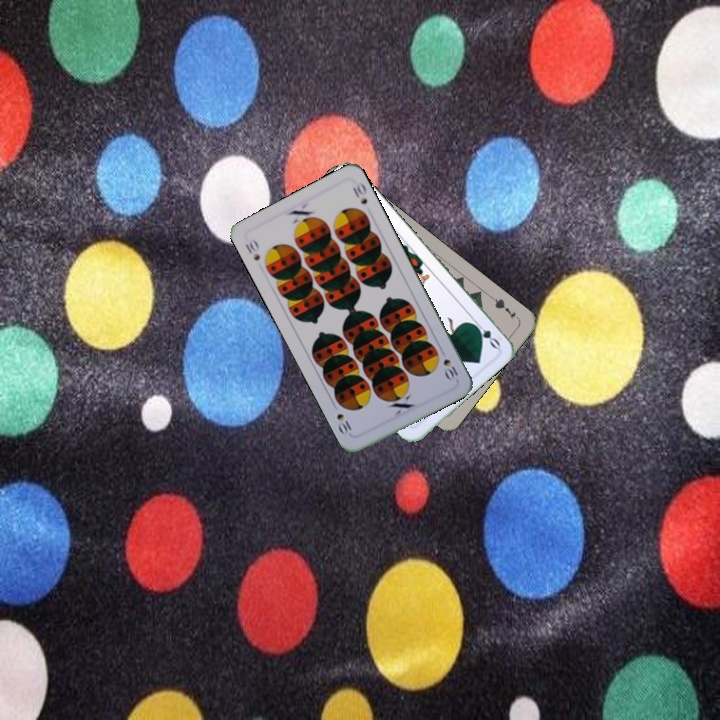G7: (487, 293, 522, 322)
GO: (468, 316, 503, 351)
S10: (436, 345, 461, 383), (241, 235, 263, 263)
